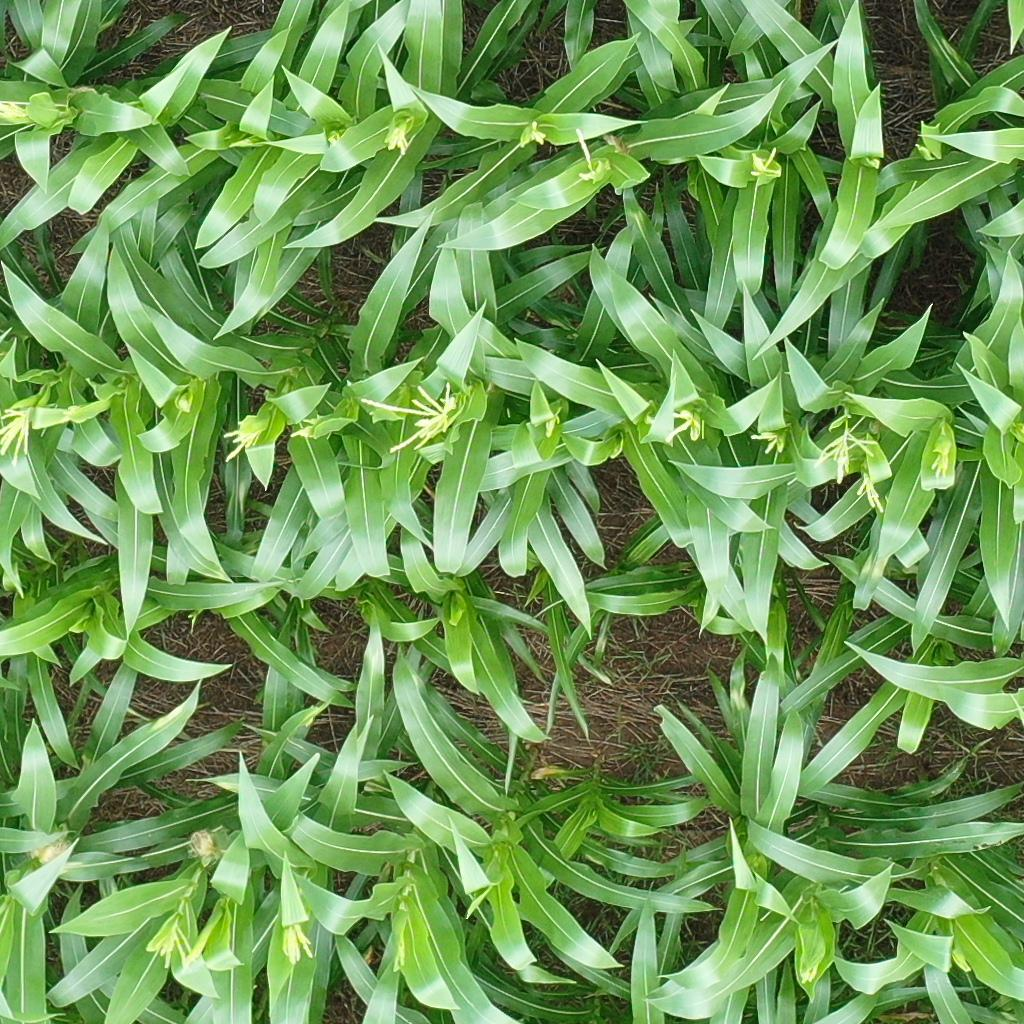Tassel: (353, 380, 454, 451), (816, 418, 881, 485), (147, 914, 197, 972), (1, 405, 42, 464), (215, 415, 261, 461), (272, 918, 315, 965), (662, 403, 703, 446), (575, 129, 605, 184), (858, 471, 890, 513), (380, 118, 416, 155), (748, 141, 780, 182), (744, 426, 789, 454), (925, 441, 957, 478), (1, 98, 31, 128), (798, 956, 824, 988), (519, 116, 544, 146)
